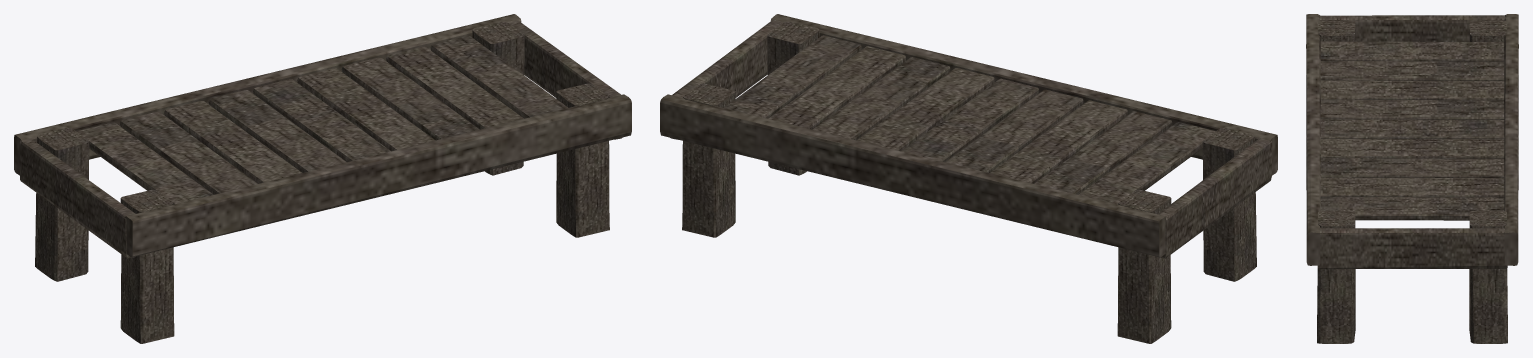
The model's file is cot.fbx.
The picture shows the model from 3 angles, left to right: view 1: azimuth 30°, elevation 25°; view 2: azimuth 150°, elevation 25°; view 3: azimuth 270°, elevation 25°; orthographic projection. The views are drawn at different scales.
Parts seen in each view (by area): view 1: Cube.002, Cube.003, Cube.001, Cube; view 2: Cube.002, Cube.003, Cube.001, Cube; view 3: Cube.002, Cube, Cube.001, Cube.003.
Boxes of the visible parts, x1=… form: Cube.002: x1=77, y1=36, x2=568, y2=204; Cube.003: x1=14, y1=14, x2=631, y2=257; Cube.001: x1=35, y1=21, x2=609, y2=343; Cube: x1=19, y1=20, x2=622, y2=258; Cube.002: x1=724, y1=35, x2=1215, y2=204; Cube.003: x1=660, y1=14, x2=1277, y2=257; Cube.001: x1=682, y1=21, x2=1256, y2=343; Cube: x1=670, y1=20, x2=1272, y2=258; Cube.002: x1=1320, y1=41, x2=1504, y2=220; Cube: x1=1317, y1=15, x2=1507, y2=269; Cube.001: x1=1317, y1=20, x2=1507, y2=343; Cube.003: x1=1306, y1=14, x2=1518, y2=265.
Size of the model in its own units: 2522 by 635 by 1035.
